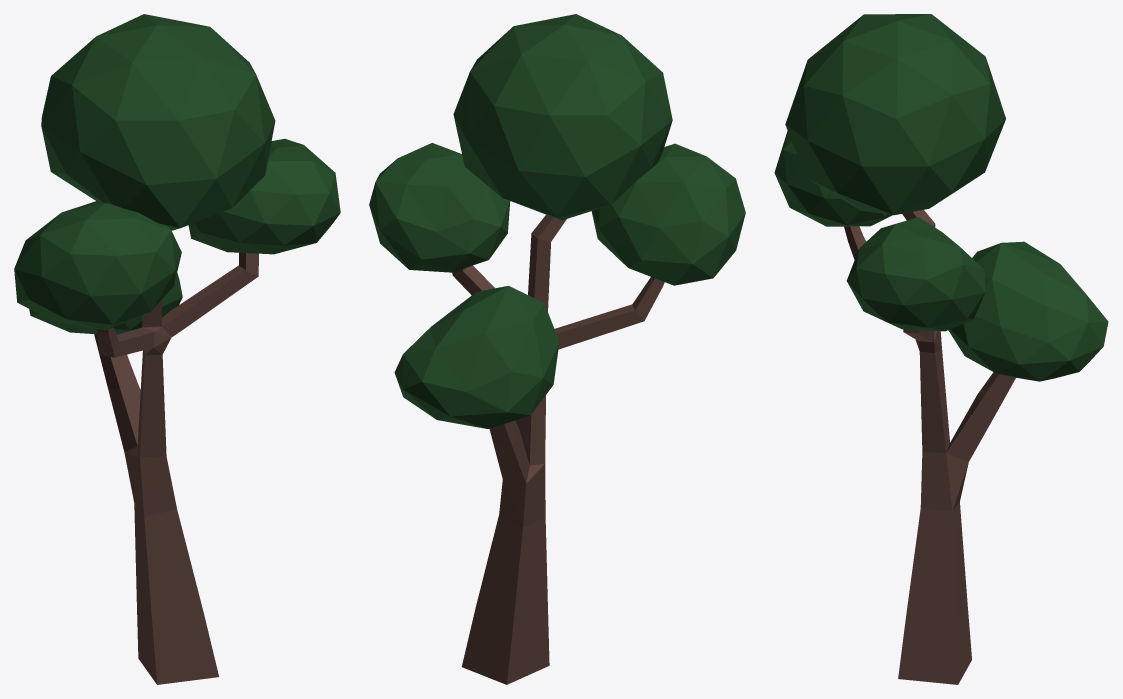
File: Tree 3.fbx
The picture shows the model from 3 angles, left to right: view 1: azimuth 30°, elevation 25°; view 2: azimuth 150°, elevation 25°; view 3: azimuth 270°, elevation 25°; orthographic projection. The views are drawn at different scales.
Visible parts, largest first — view 1: Tree 3; view 2: Tree 3; view 3: Tree 3.
Part boxes in pixels (x1,y1,x2,y2): Tree 3: [14, 14, 340, 684]; Tree 3: [369, 14, 745, 684]; Tree 3: [774, 14, 1108, 684].
Size of the model in its own units: 4.22 by 7.95 by 3.82.
